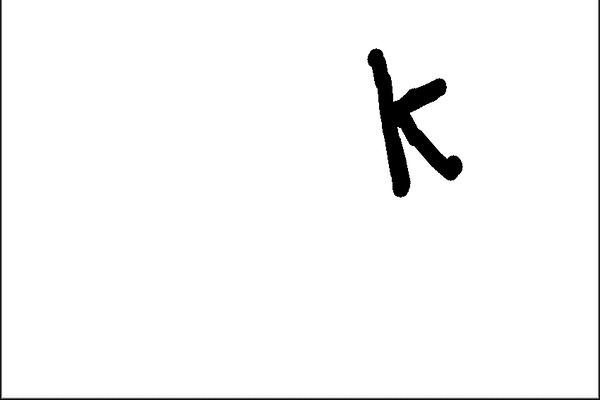K: (358, 36, 473, 209)
